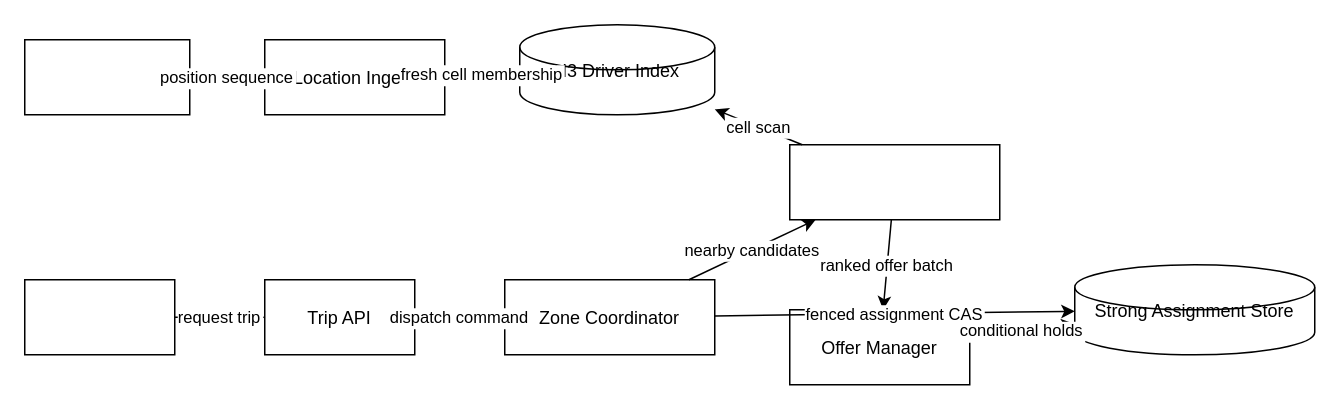
The diagram is 1340 pixels wide and 410 high, and some of its shapes have lost their labels. The shapes that lost their labels are listed below. From the top down, each one's centre as x and y in pixels, then its label:
At (106,76): "Driver Apps".
At (894,181): "Candidate and ETA".
At (99,316): "Rider App".
